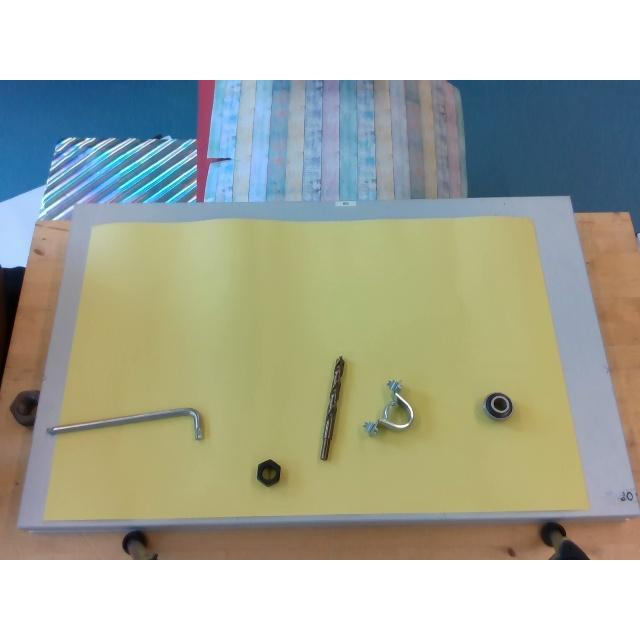AllenKey: (46, 408, 202, 440)
Bearing2: (483, 392, 512, 420)
Drill: (319, 356, 345, 460)
Housing: (362, 379, 413, 435)
M20: (256, 458, 280, 486)
